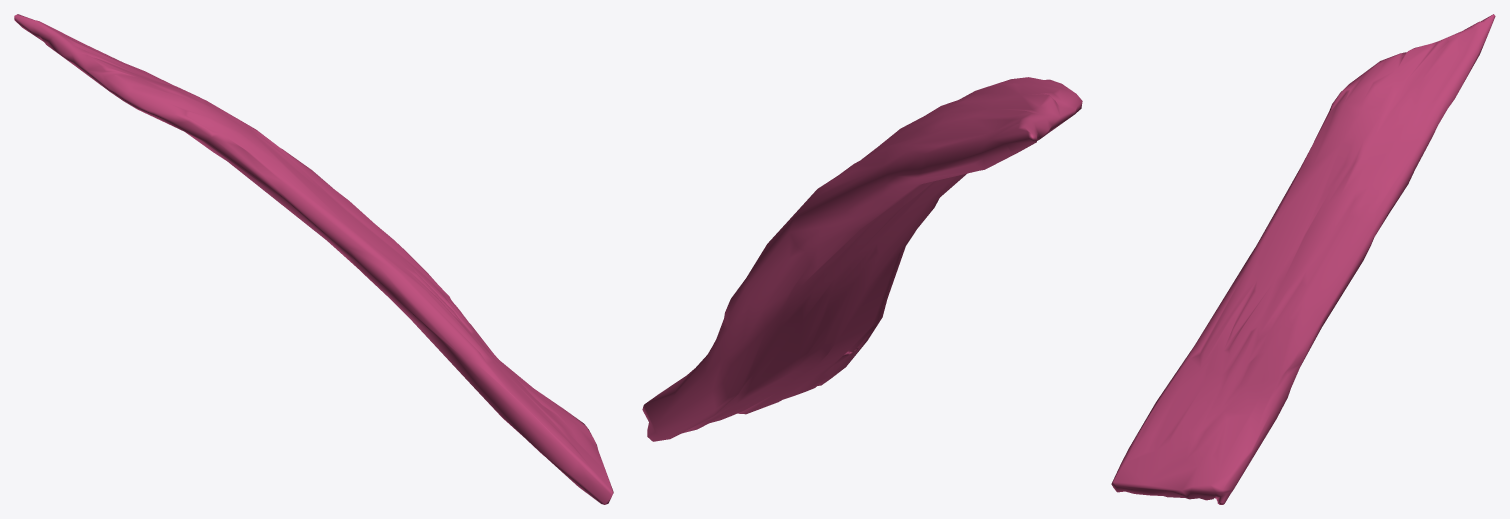
3 renders of one model, left to right at view 1: azimuth 30°, elevation 25°; view 2: azimuth 150°, elevation 25°; view 3: azimuth 270°, elevation 25°, orthographic. The views are drawn at different scales.
Parts seen in each view (by area): view 1: 左侧大圆肌; view 2: 左侧大圆肌; view 3: 左侧大圆肌.
Boxes of the visible parts, <box> form: 左侧大圆肌: <box>14,14,613,504</box>; 左侧大圆肌: <box>642,77,1082,441</box>; 左侧大圆肌: <box>1111,14,1495,504</box>.
Bounding box in the file's own units: 0.1262 × 0.1219 × 0.1268.
